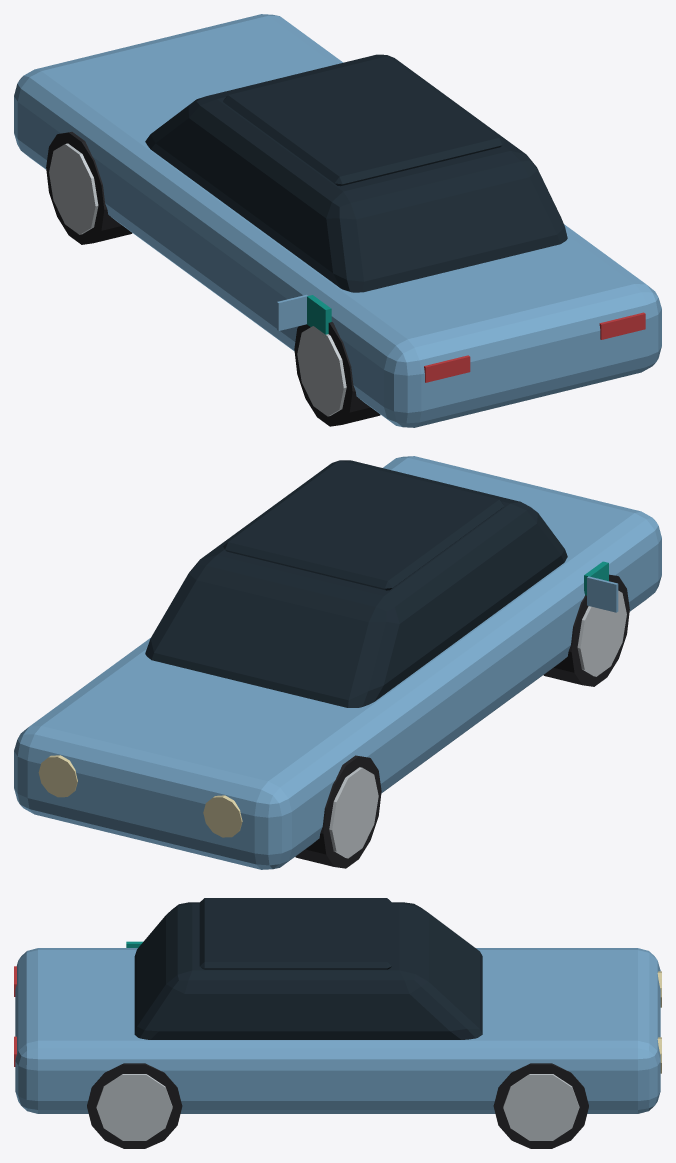
File: sedan.glb
3 views of the same model, one above another, from view 1: azimuth 30°, elevation 25°; view 2: azimuth 150°, elevation 25°; view 3: azimuth 270°, elevation 25° (orthographic). The views are drawn at different scales.
Parts seen in each view (by area): view 1: sedan; view 2: sedan; view 3: sedan.
Part boxes in pixels (<box>): sedan: <box>14,14,661,427</box>; sedan: <box>14,456,661,869</box>; sedan: <box>14,898,661,1148</box>.
Size of the model in its own units: 2.1 by 1.29 by 4.62.
